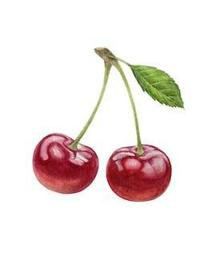cherry: (32, 133, 99, 194), (105, 144, 172, 203)
